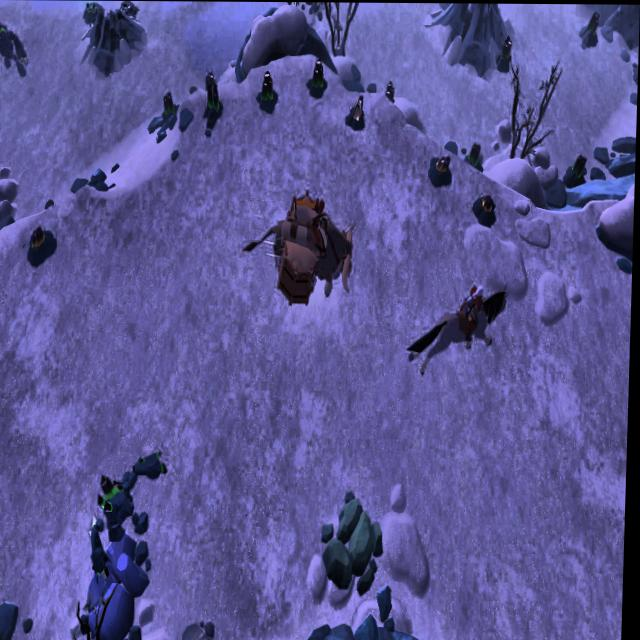ore_t3: (203, 78, 222, 118), (260, 69, 276, 110), (311, 54, 325, 97), (160, 91, 177, 124), (571, 152, 588, 181), (469, 140, 484, 167), (585, 11, 600, 38), (500, 36, 512, 64)
rock_t3: (322, 488, 388, 595)
rock_t4: (85, 543, 153, 639)
